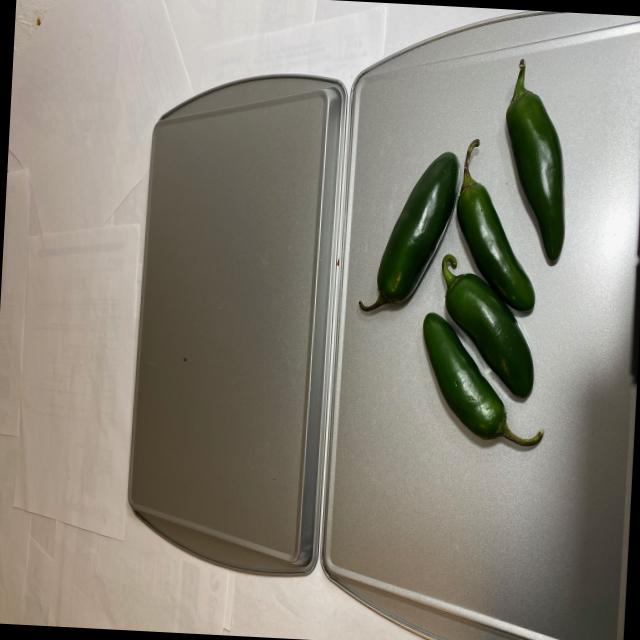chilli: (353, 43, 579, 465)
